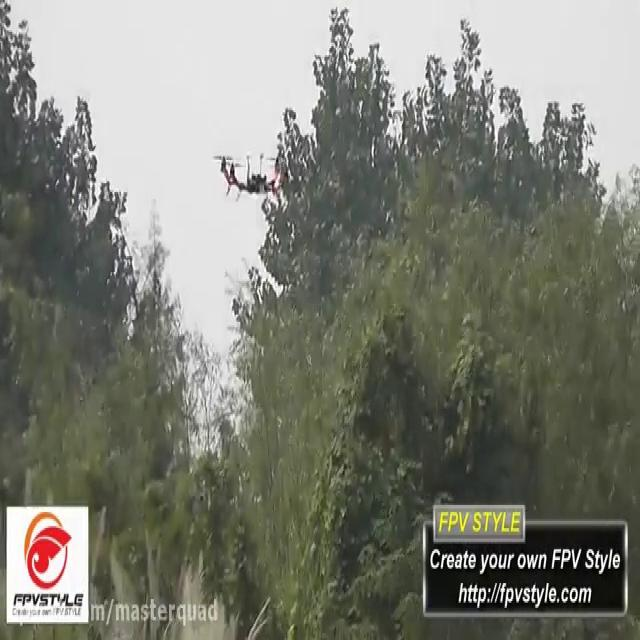drone: (212, 142, 290, 208)
